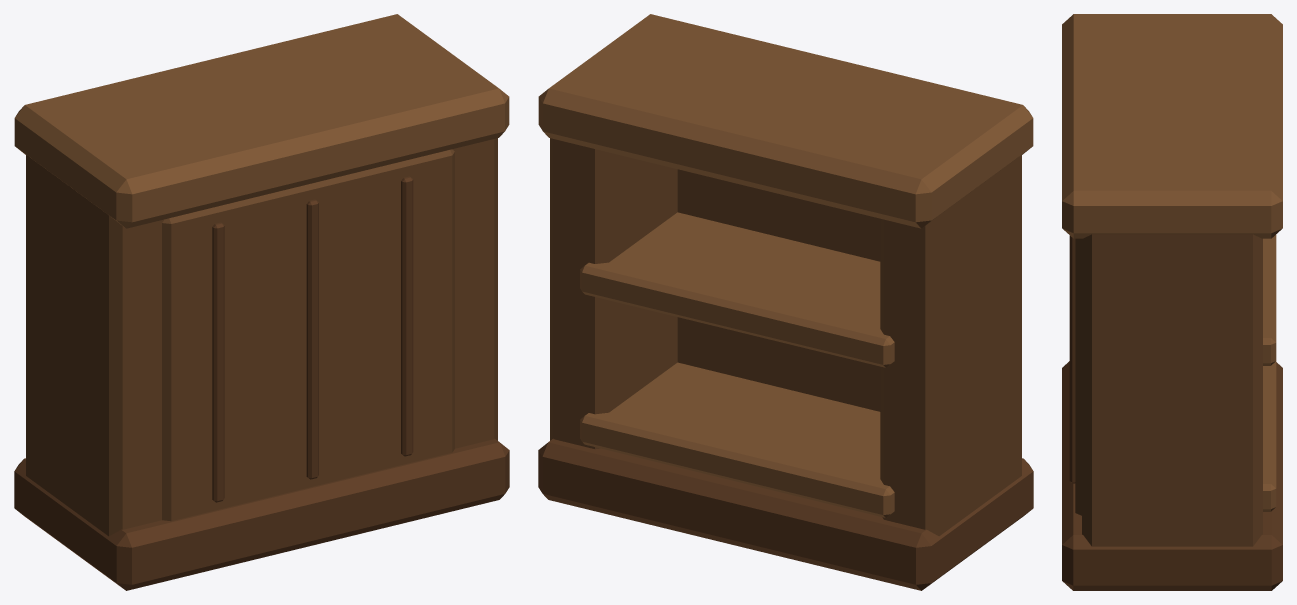
Rendered from tavern_bar.glb.
The picture shows the model from 3 angles, left to right: view 1: azimuth 30°, elevation 25°; view 2: azimuth 150°, elevation 25°; view 3: azimuth 270°, elevation 25°; orthographic projection. The views are drawn at different scales.
Parts seen in each view (by area): view 1: tavern_bar; view 2: tavern_bar; view 3: tavern_bar.
Part boxes in pixels (<box>): tavern_bar: <box>14,14,509,590</box>; tavern_bar: <box>538,14,1033,590</box>; tavern_bar: <box>1062,14,1282,590</box>.
Bounding box in the file's own units: 2 × 2 × 1.
